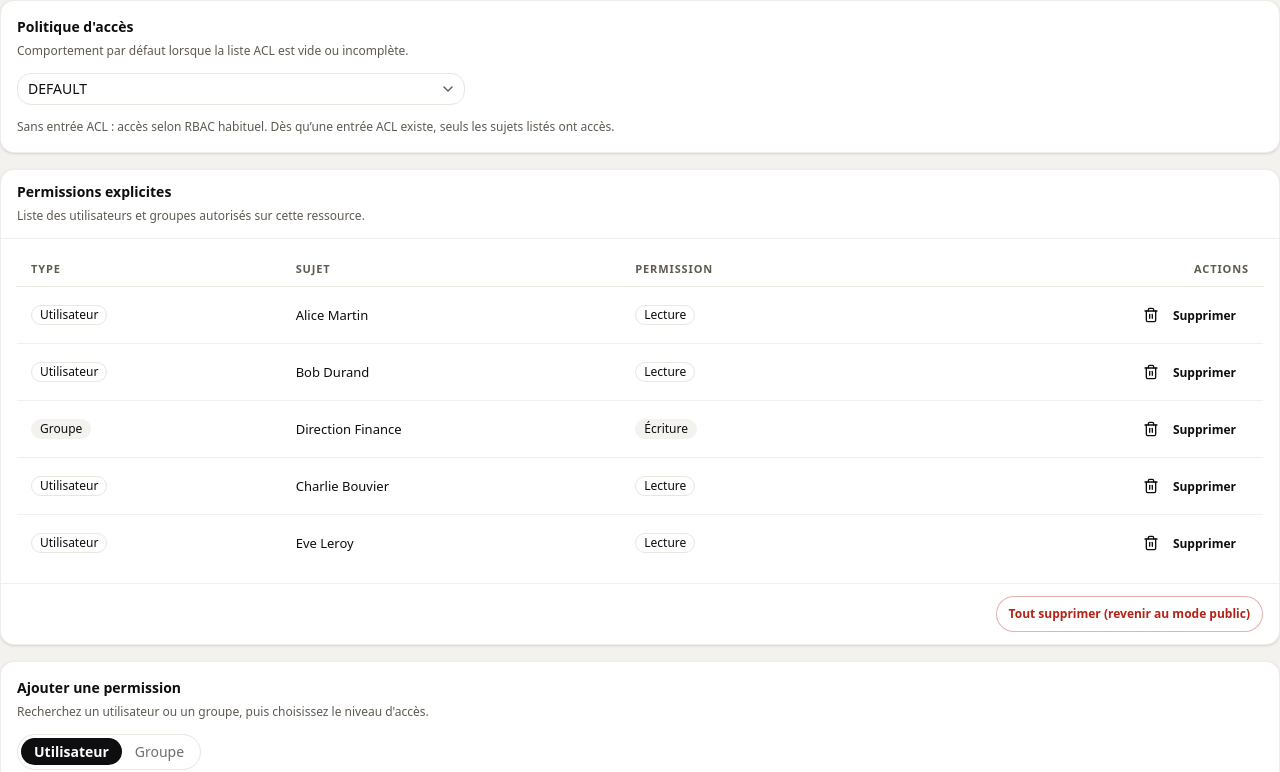
Test: ResourceAclEditor — bulk delete erreur partielle (test imposé n°3 partie UI) › 5 entrées, échec à la 3ᵉ → toast erreur, Reprendre visible, banner public NON affiché
This screenshot has width=1280, height=772.
Click the button with test id "resource-acl-bulk-delete" at [1129, 614], box [996,596,1263,632]
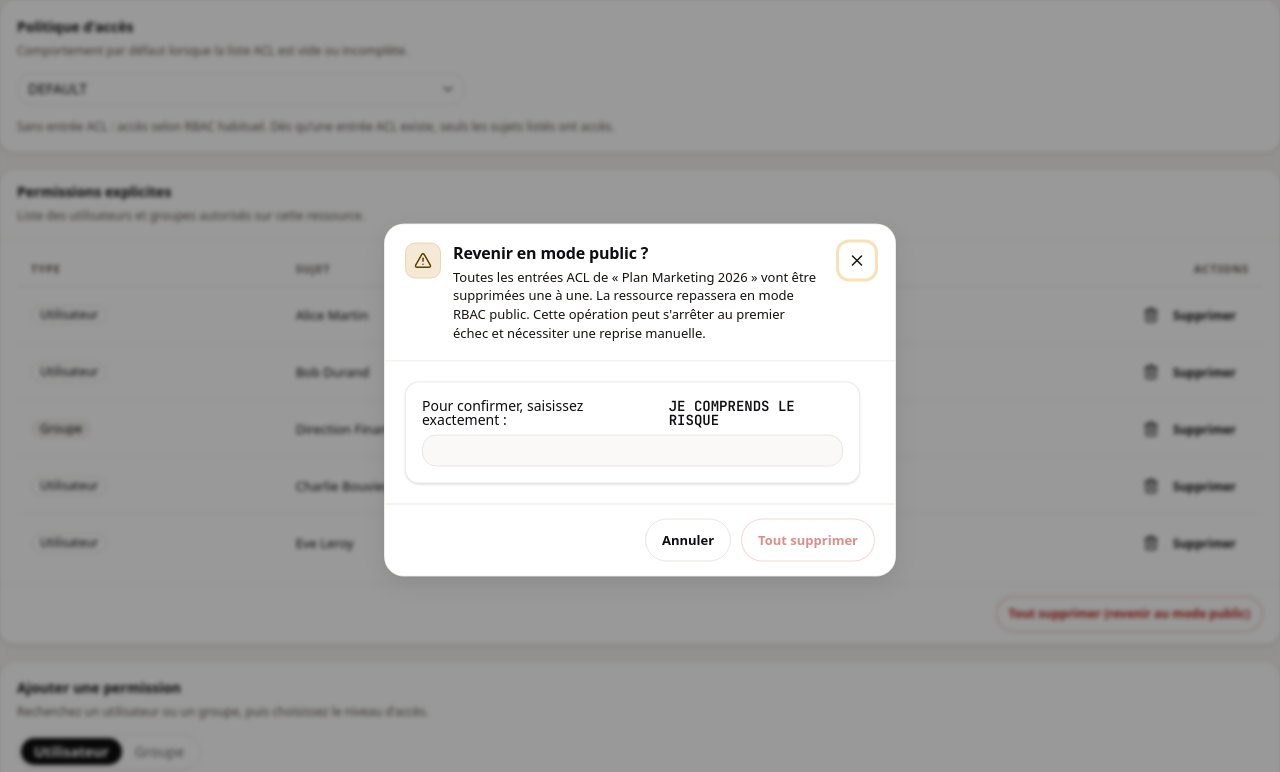
Now the heading "Revenir en mode public ?" is shown, box [453,242,648,264]
Type "JE COMPRENDS LE RISQUE" into the field labelled "JE COMPRENDS LE RISQUE" at [632, 450], box [422,434,843,466]
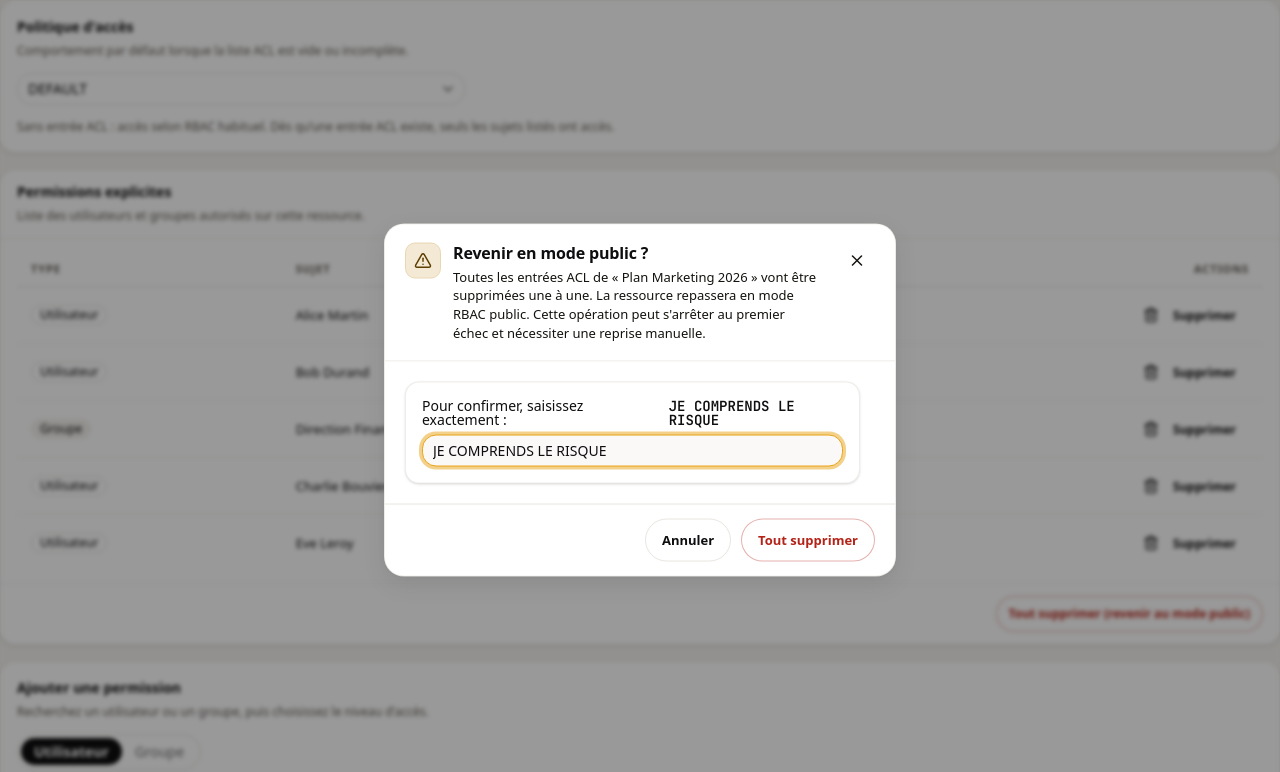
Click the button "Tout supprimer" at [808, 540], box [741,518,875,562]
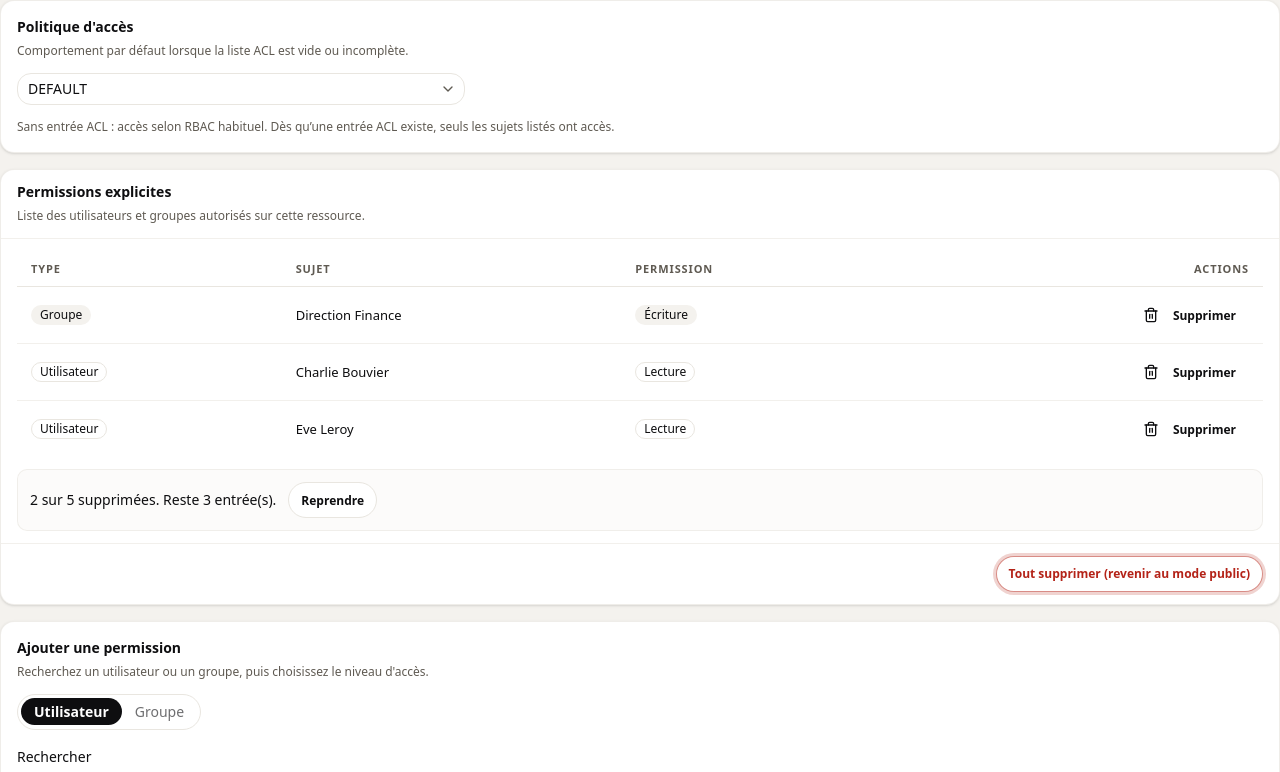
Expected: the text "Direction Finance" is shown, [282,287,621,344]
Now the text "2 sur 5 supprimées. Reste 3 entrée(s)." is shown, box [30,490,276,510]
Now the button with test id "resource-acl-bulk-resume" is shown, box [288,482,377,518]
